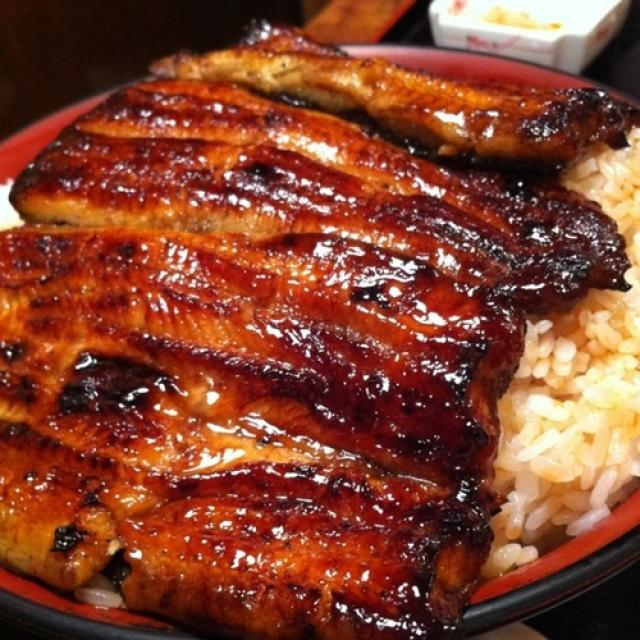熟制海鲜: (12, 23, 620, 621)
